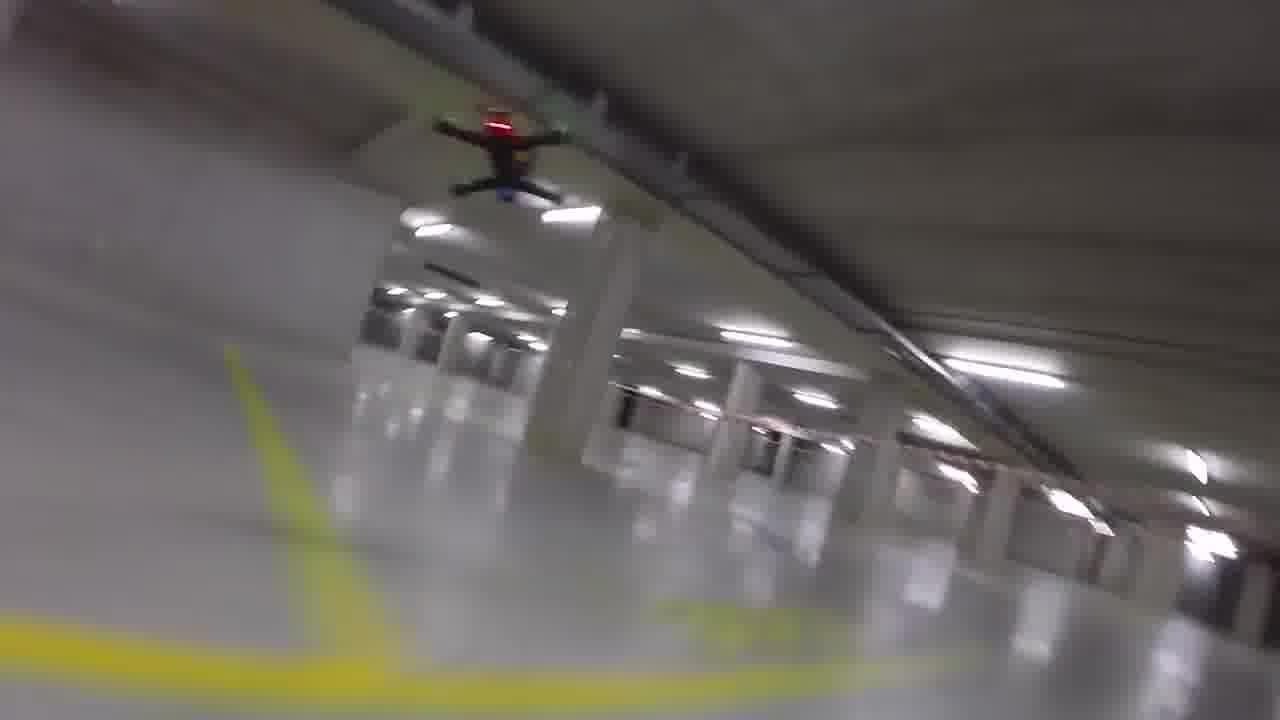drone: (422, 94, 582, 211)
